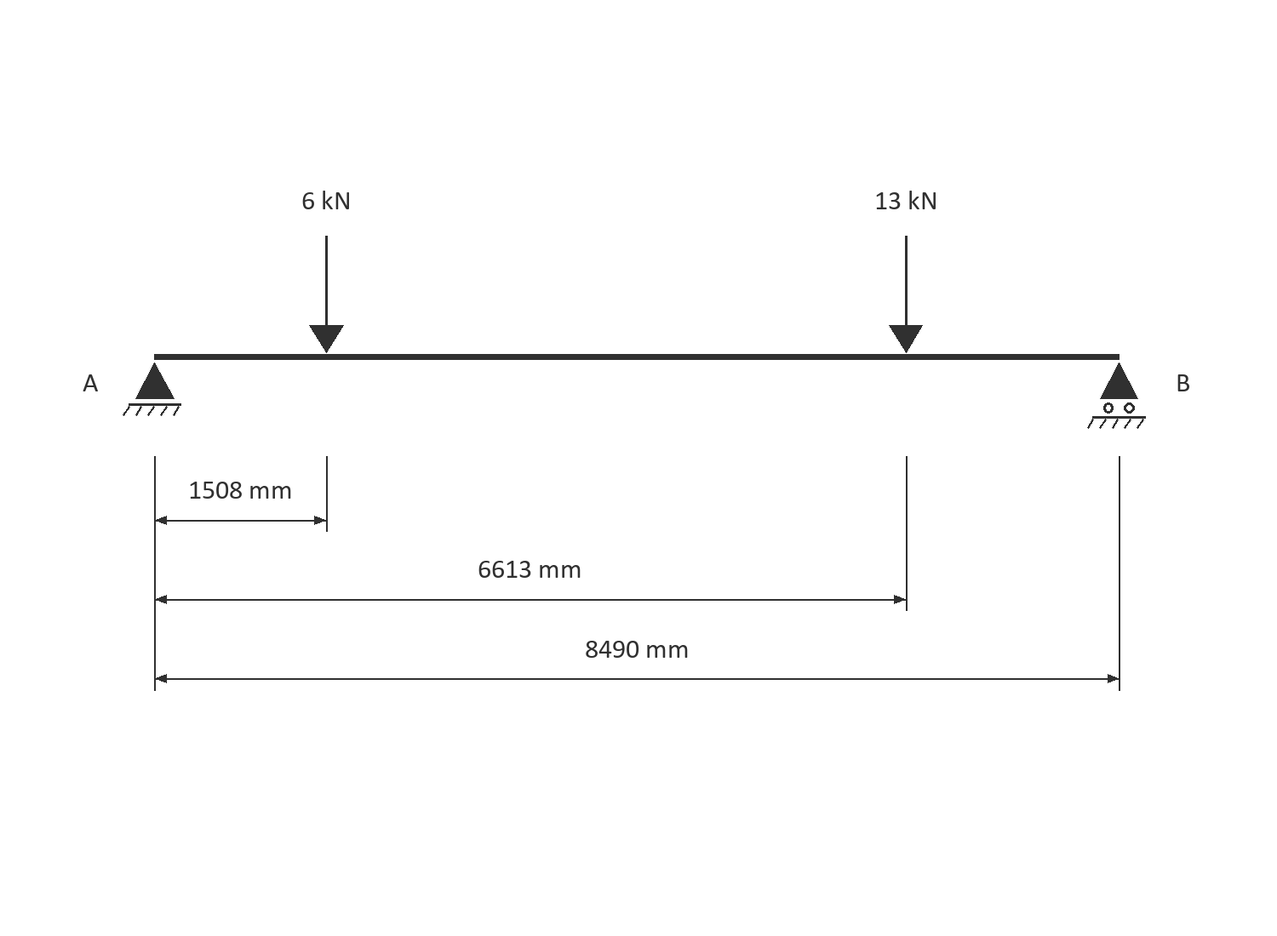pin_support: (123, 362, 181, 416)
point_load: (309, 236, 344, 353), (889, 236, 923, 353)
roller_support: (1087, 362, 1146, 429)
